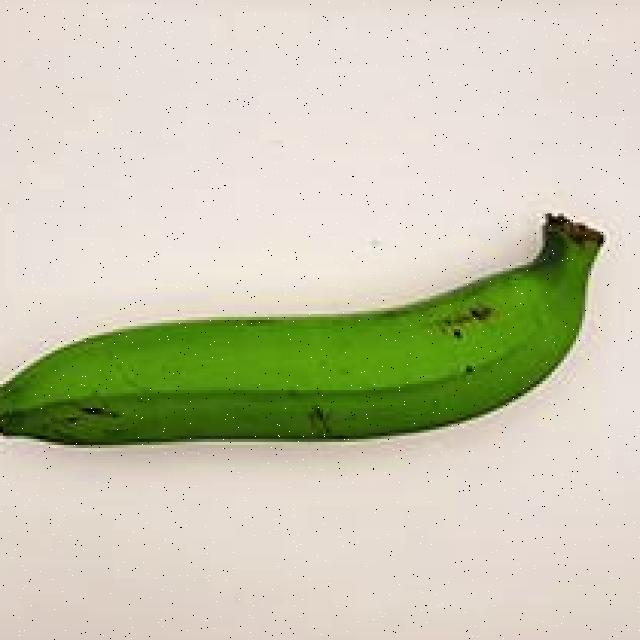Raw: (0, 204, 622, 460)
